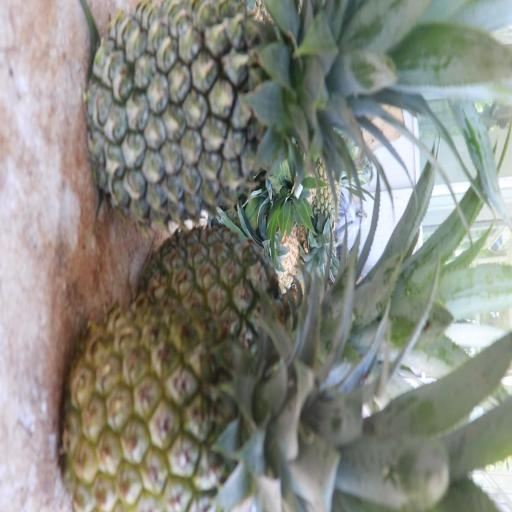------------------------------: (58, 278, 390, 510), (140, 217, 366, 378)
